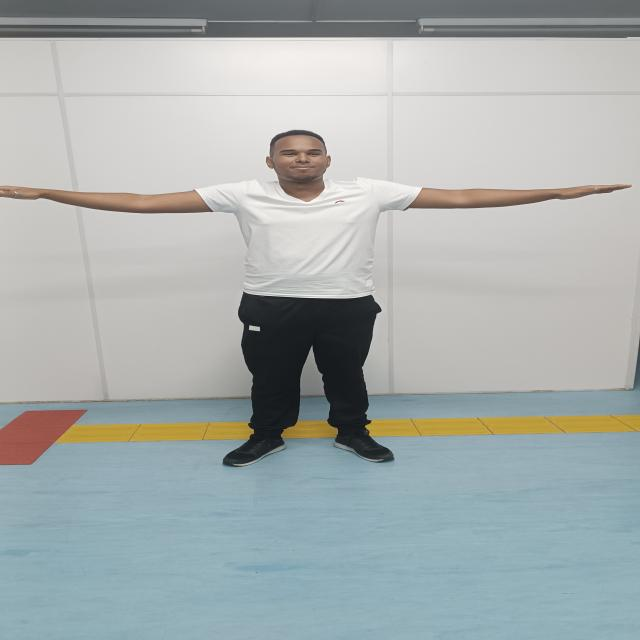takeoff: (0, 130, 629, 466)
